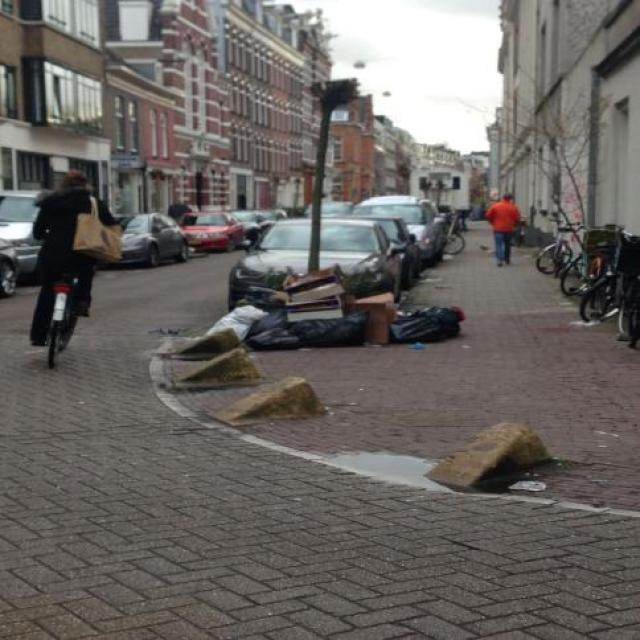Anorganik: (386, 301, 474, 346), (282, 317, 380, 349), (240, 307, 298, 347)
